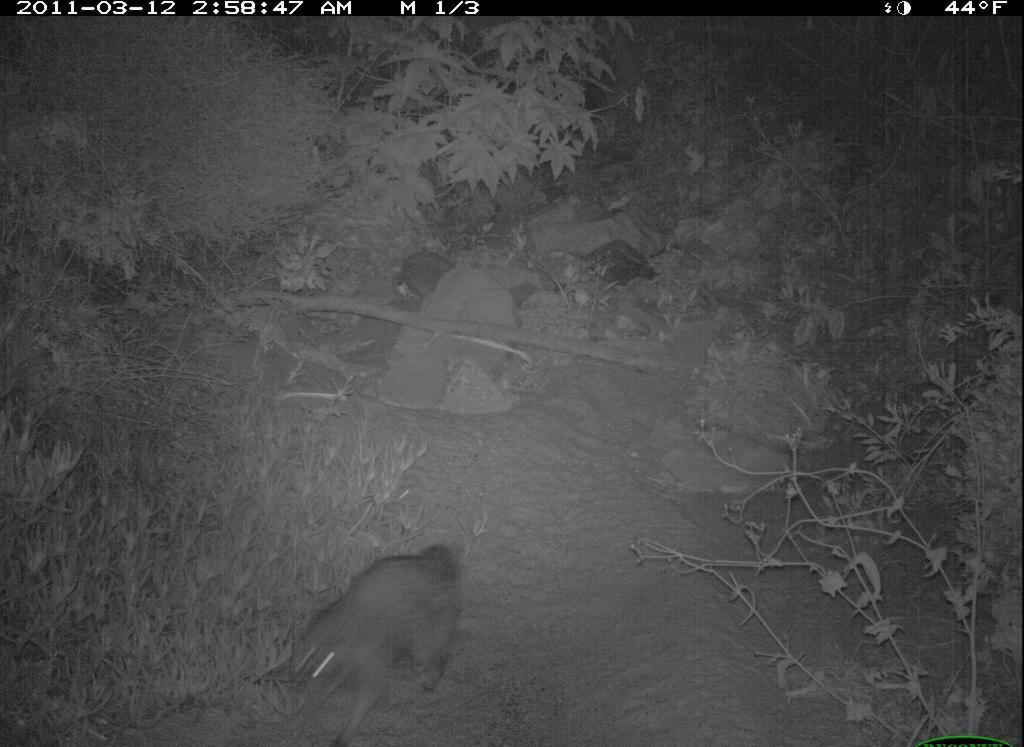raccoon: (271, 528, 469, 744)
